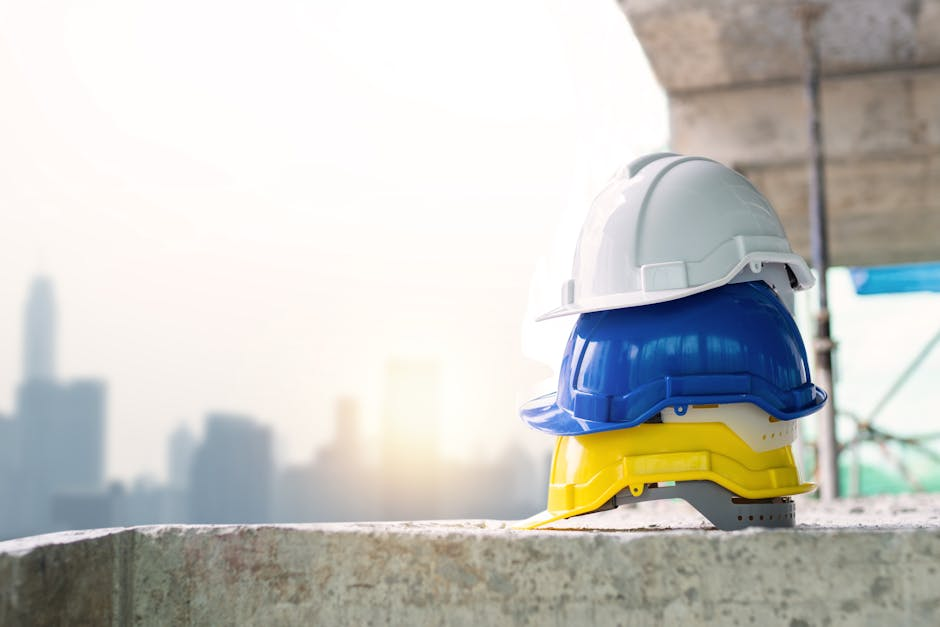safety_helmet: (513, 150, 829, 530), (533, 150, 817, 323)
